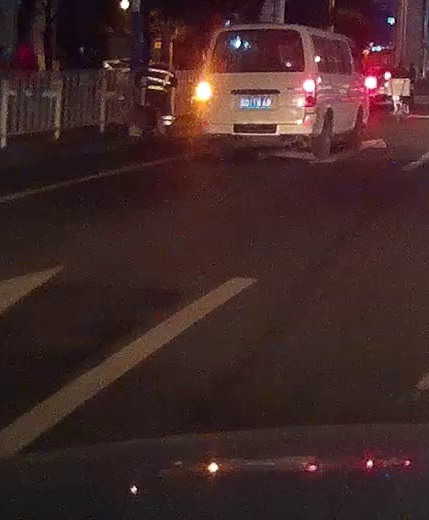L_light: (197, 78, 212, 105)
R_light: (304, 78, 316, 106)
T_light: (247, 29, 265, 35)
night-left: (196, 24, 317, 157)
